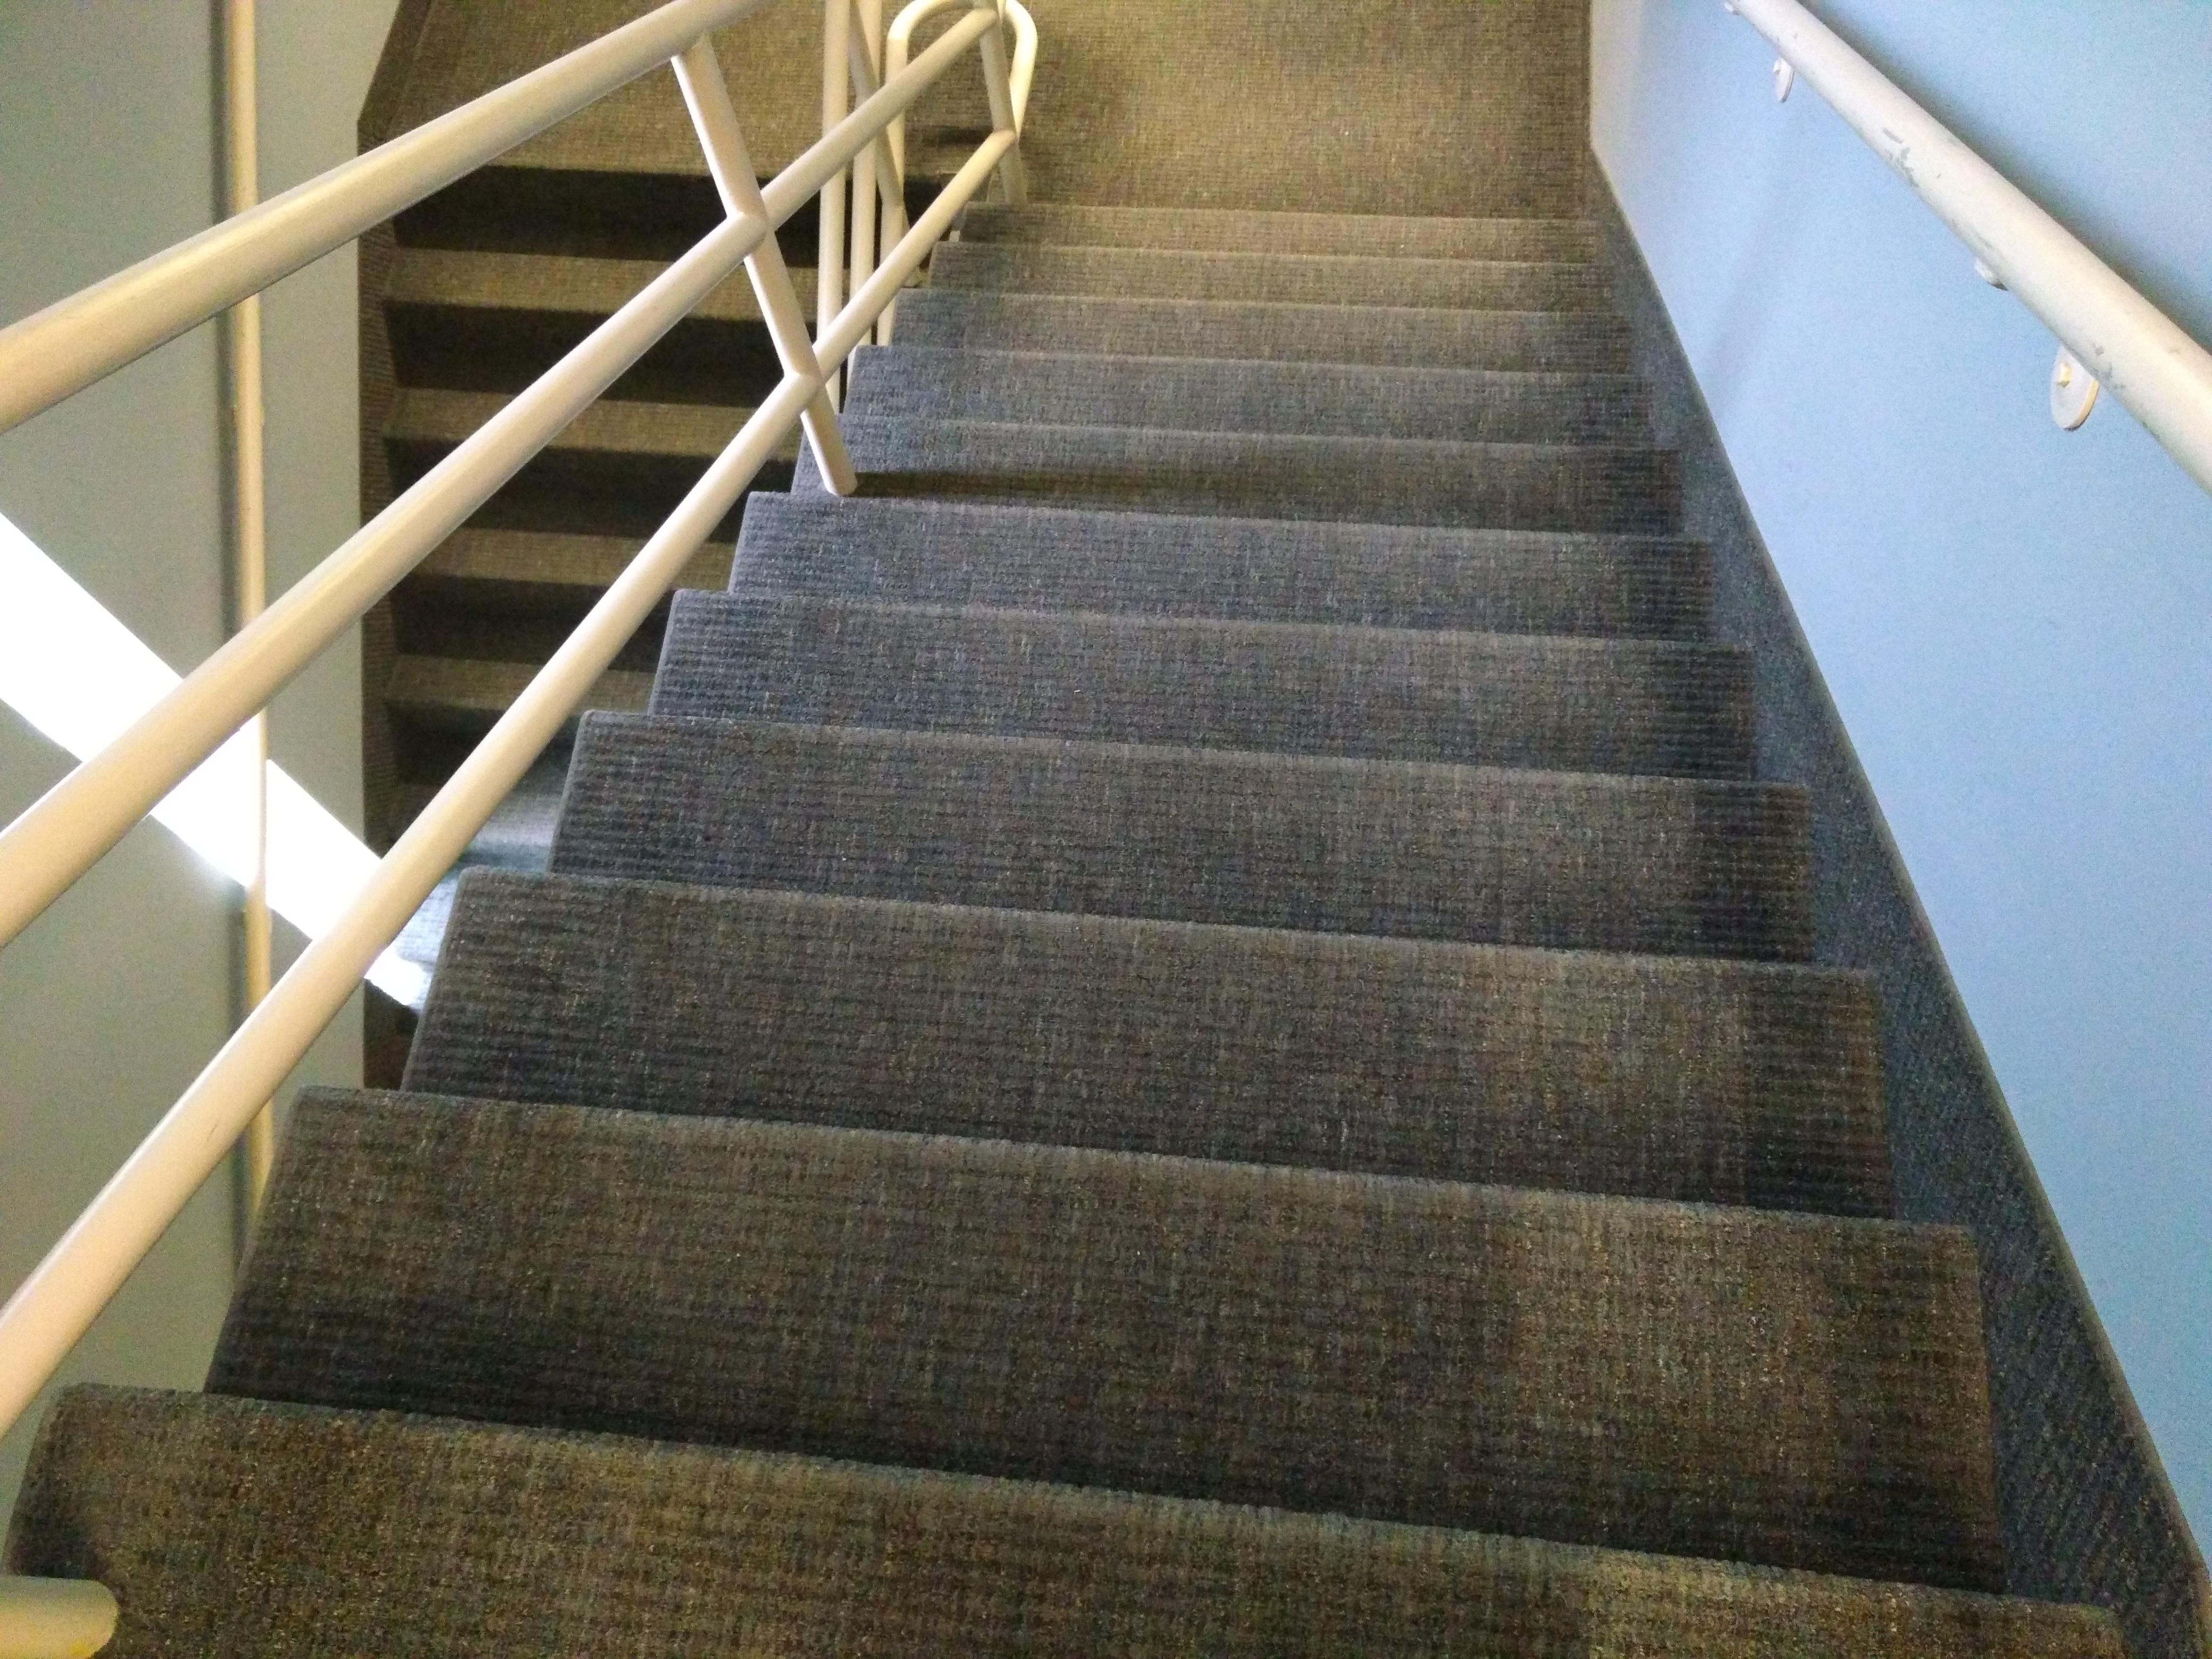stairs_down: (99, 186, 2085, 1520)
